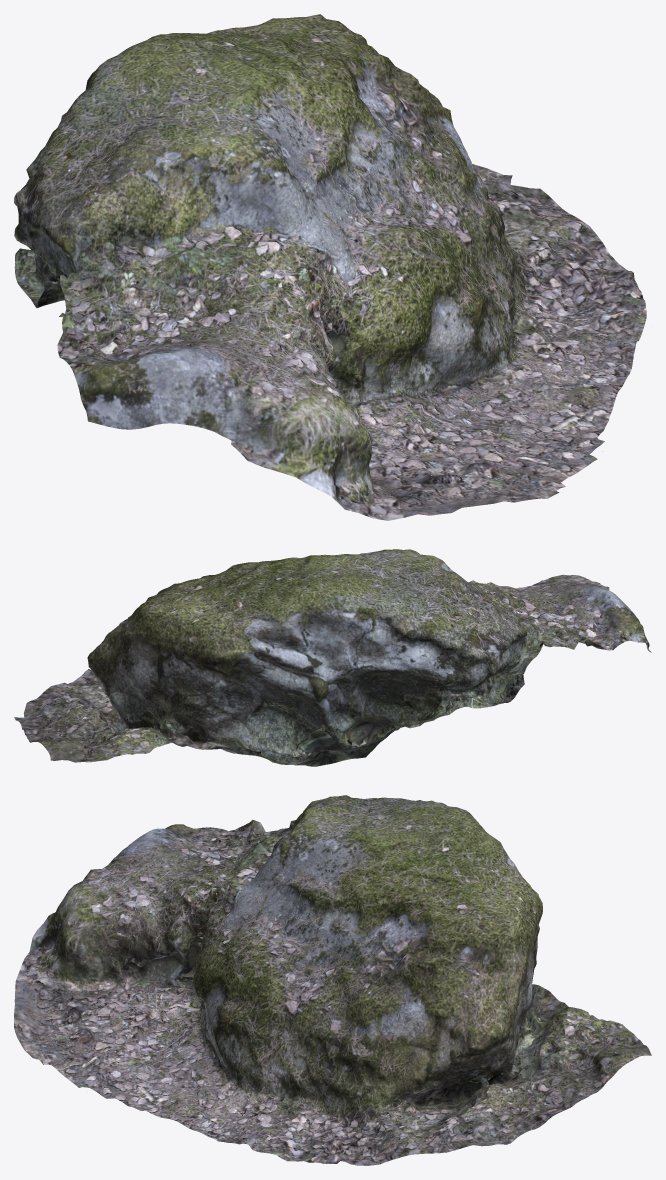
File: rock2.glb
3 renders of one model, top to bottom at view 1: azimuth 30°, elevation 25°; view 2: azimuth 150°, elevation 25°; view 3: azimuth 270°, elevation 25°, orthographic. The views are drawn at different scales.
Parts seen in each view (by area): view 1: PM3D_Rock1_oPP; view 2: PM3D_Rock1_oPP; view 3: PM3D_Rock1_oPP.
Boxes of the visible parts, left/top/right/bottom form: PM3D_Rock1_oPP: left=14, top=14, right=646, bottom=520; PM3D_Rock1_oPP: left=14, top=549, right=651, bottom=766; PM3D_Rock1_oPP: left=14, top=795, right=651, bottom=1165.
Size of the model in its own units: 1.46 by 0.5988 by 1.64.
1 material, 1 textured.
